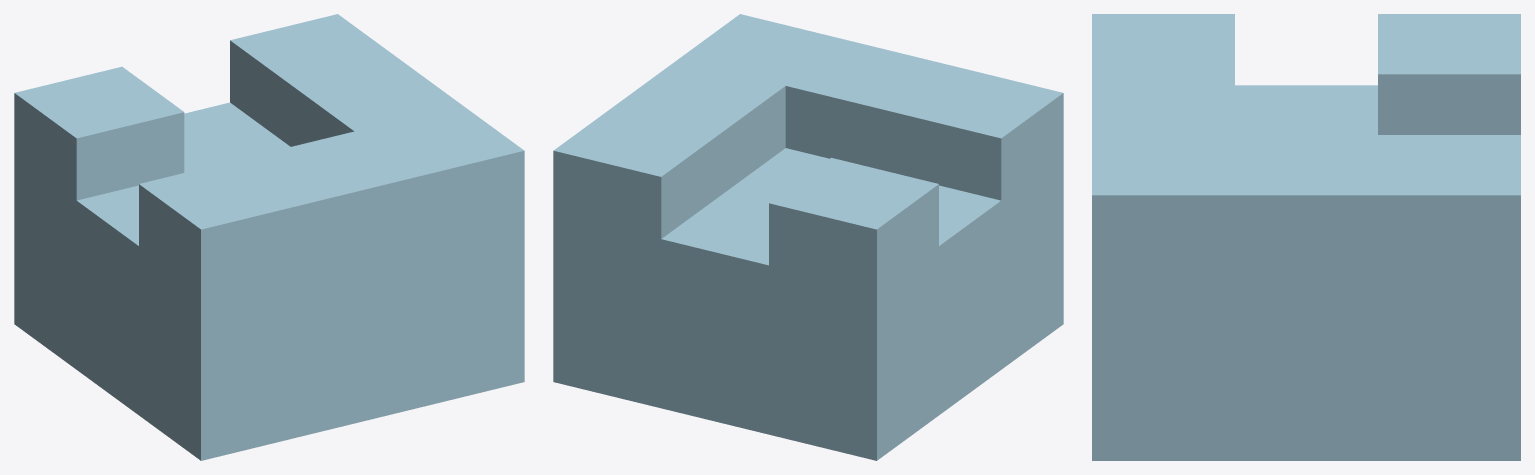
Rendered from LBlock.fbx.
The picture shows the model from 3 angles, left to right: view 1: azimuth 30°, elevation 25°; view 2: azimuth 150°, elevation 25°; view 3: azimuth 270°, elevation 25°; orthographic projection. The views are drawn at different scales.
Visible parts, largest first — view 1: Cube.005; view 2: Cube.005; view 3: Cube.005.
Part boxes in pixels (left/top/right/bottom): Cube.005: left=14, top=14, right=524, bottom=460; Cube.005: left=553, top=14, right=1063, bottom=460; Cube.005: left=1092, top=14, right=1520, bottom=460.
Bounding box in the file's own units: 400 × 273 × 400.
